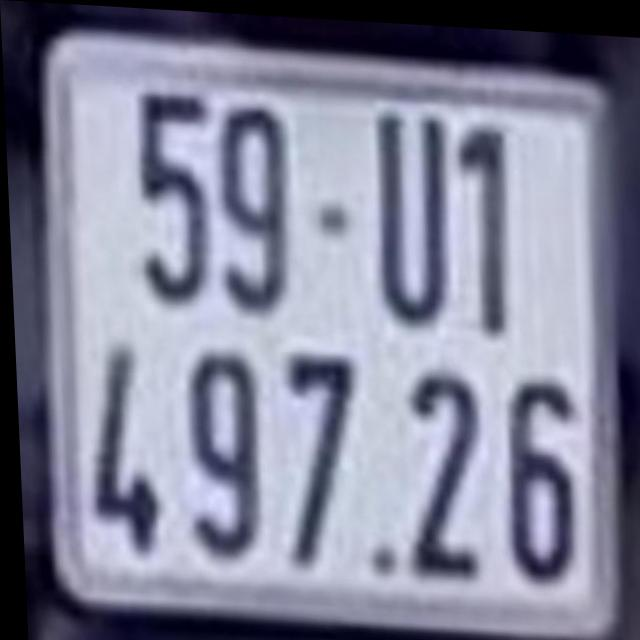1: (458, 117, 512, 320)
2: (400, 369, 483, 569)
4: (80, 349, 162, 566)
5: (133, 91, 211, 302)
6: (499, 362, 583, 573)
7: (274, 343, 358, 567)
9: (178, 345, 260, 557), (210, 93, 287, 308)
U: (367, 106, 452, 318)
